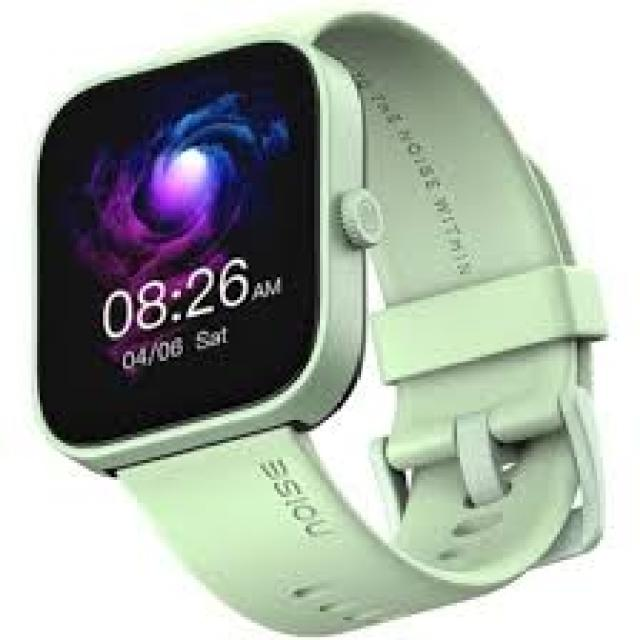objects: (40, 17, 603, 629)
